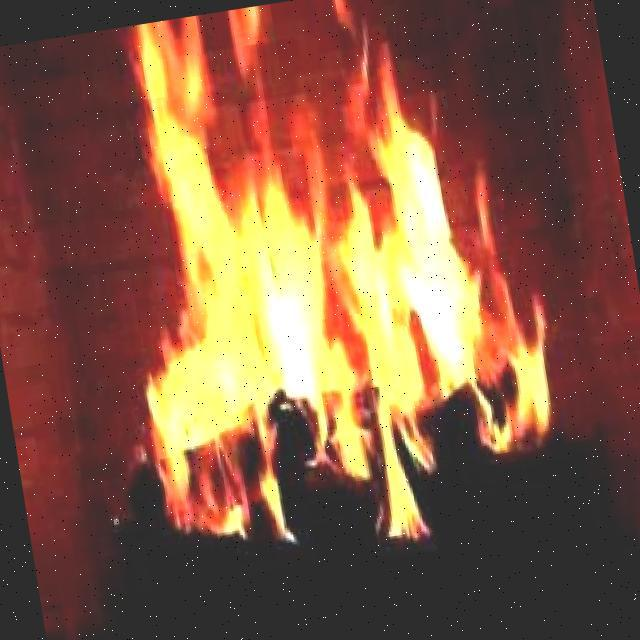Fire: (106, 19, 504, 489)
